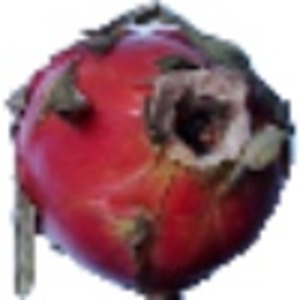pitaia: (5, 1, 299, 300)
